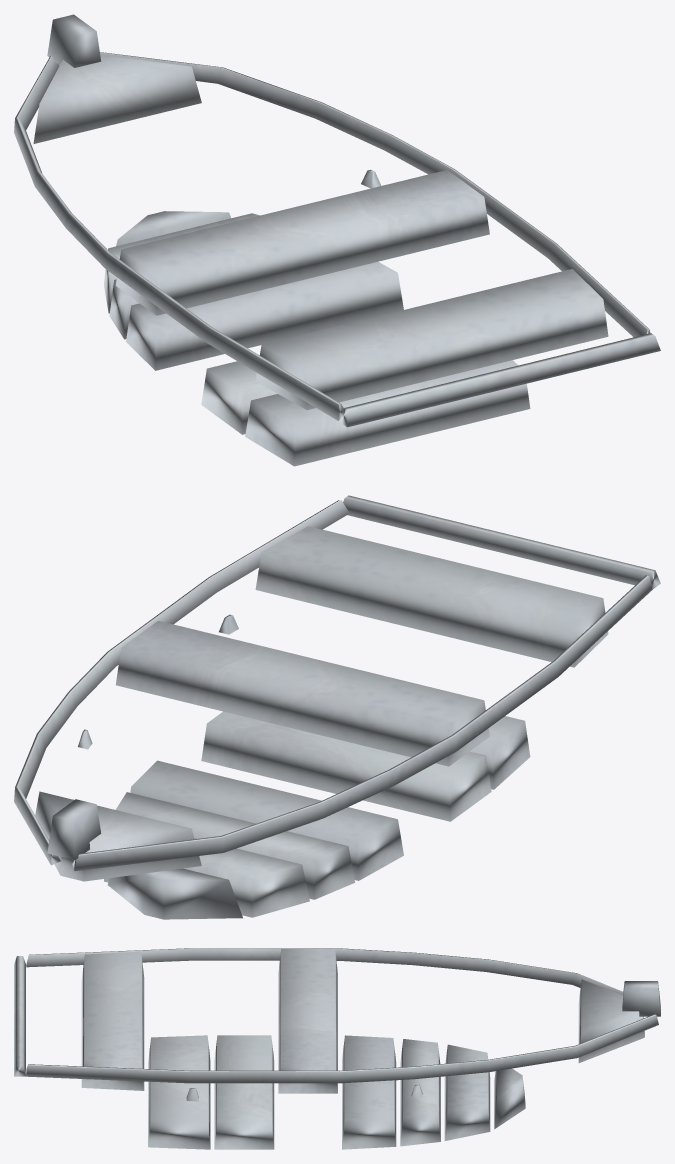
The model's file is Boat_Snow.fbx.
3 views of the same model, one above another, from view 1: azimuth 30°, elevation 25°; view 2: azimuth 150°, elevation 25°; view 3: azimuth 270°, elevation 25° (orthographic). The views are drawn at different scales.
Parts seen in each view (by area): view 1: Boat_Snow; view 2: Boat_Snow; view 3: Boat_Snow.
Part boxes in pixels (x1,y1,x2,y2): Boat_Snow: (14, 14, 660, 466); Boat_Snow: (14, 495, 660, 919); Boat_Snow: (14, 948, 660, 1149).
Size of the model in its own units: 199 by 89.51 by 435.
